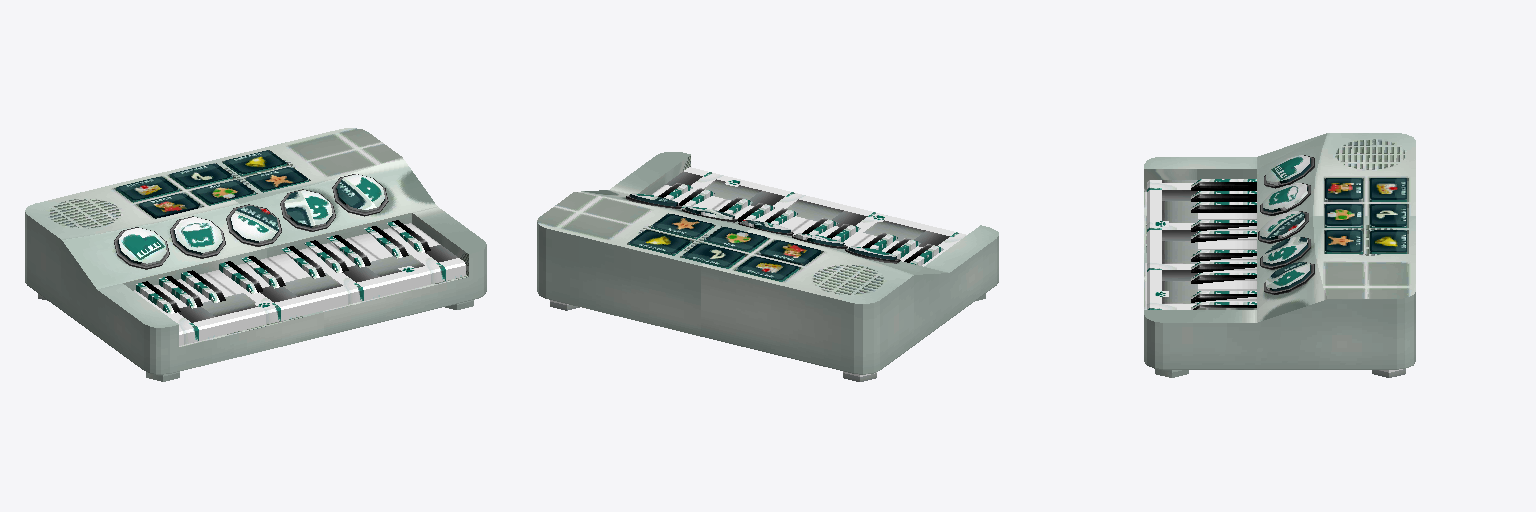
The picture shows the model from 3 angles: view 1: azimuth 30°, elevation 25°; view 2: azimuth 150°, elevation 25°; view 3: azimuth 270°, elevation 25°; orthographic projection.
Visible parts, largest first — view 1: _1_0_node, _2_0_node, _0_0_node; view 2: _1_0_node, _2_0_node, _0_0_node; view 3: _1_0_node, _2_0_node, _0_0_node.
Boxes of the visible parts, <box> form: _1_0_node: <box>25,128,486,381</box>; _2_0_node: <box>134,220,465,345</box>; _0_0_node: <box>38,150,388,300</box>; _1_0_node: <box>537,152,998,374</box>; _2_0_node: <box>652,167,966,266</box>; _0_0_node: <box>550,193,900,381</box>; _1_0_node: <box>1144,133,1415,377</box>; _2_0_node: <box>1147,179,1256,309</box>; _0_0_node: <box>1258,155,1406,377</box>.
Bounding box in the file's own units: 2.3 × 0.548 × 1.59.
3 materials, 3 textured.